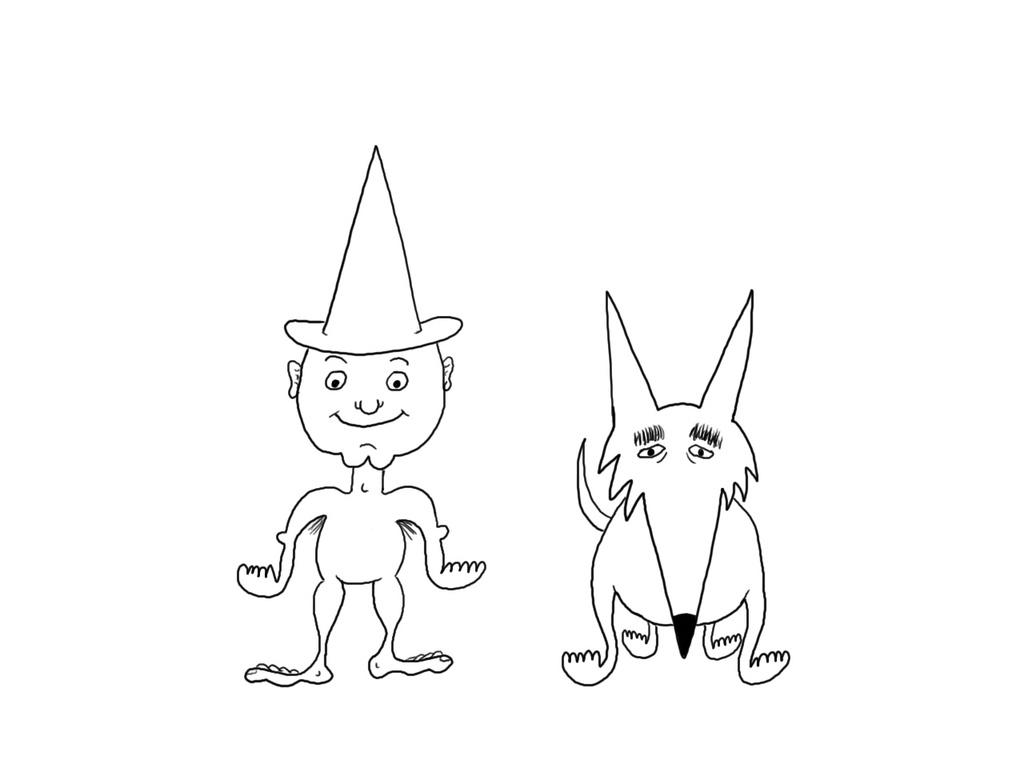Hat: (282, 146, 462, 354)
